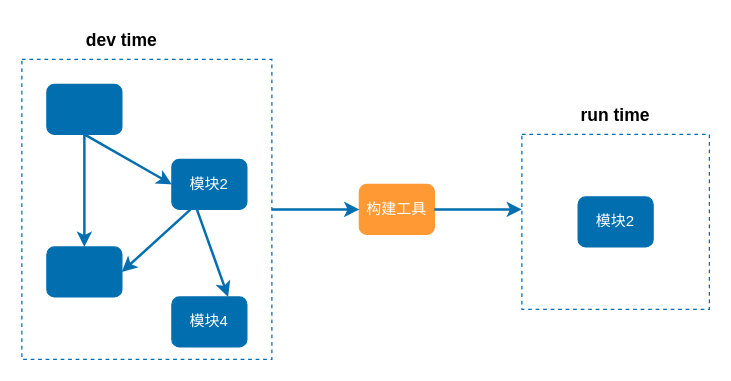
Some shapes in this 731 by 381 pixel diagram are drawn without their labels. The centre of each missing label's shape, as x and y in pixels:
"模块1" goes at (84,108).
"模块3" goes at (84,271).
